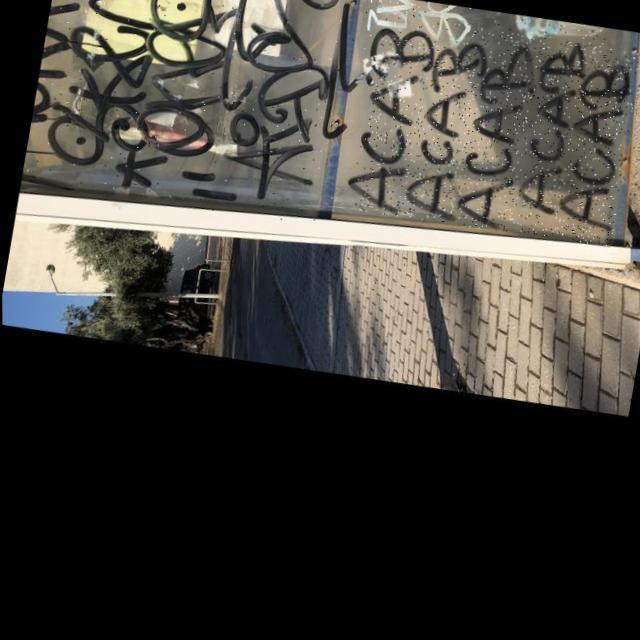-: (19, 0, 389, 240), (343, 9, 640, 257), (358, 0, 475, 55), (492, 12, 608, 57)
